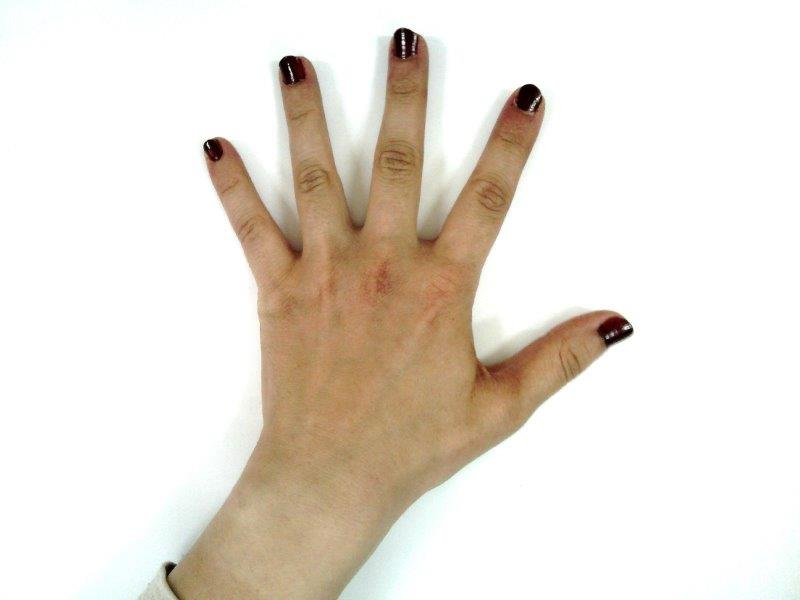hand: (203, 27, 636, 455)
